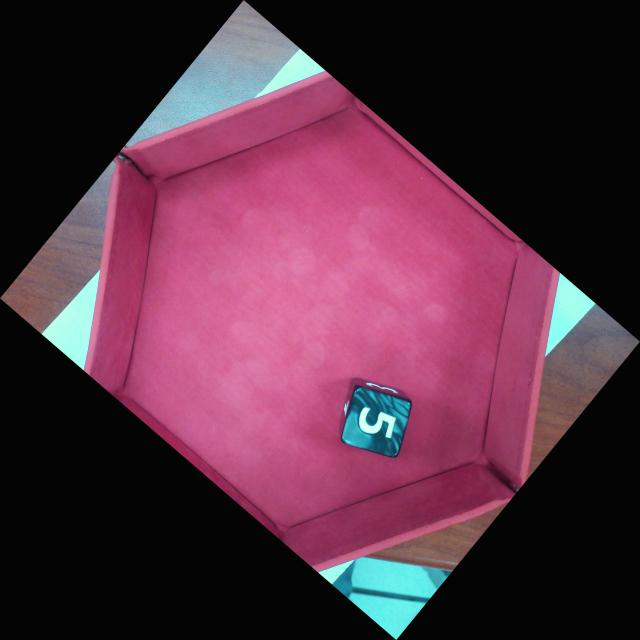dice: (343, 389, 412, 459)
